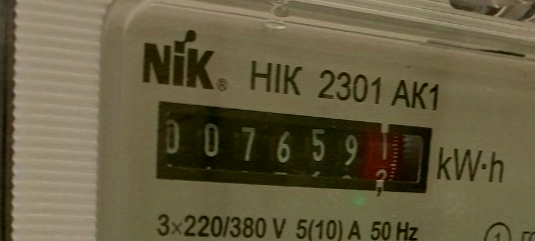0: (199, 116, 223, 157), (160, 113, 183, 154)
1: (376, 128, 393, 161)
5: (308, 123, 328, 161)
6: (273, 124, 294, 163)
7: (238, 121, 257, 161)
9: (342, 129, 359, 166)
screen: (147, 90, 440, 209)
